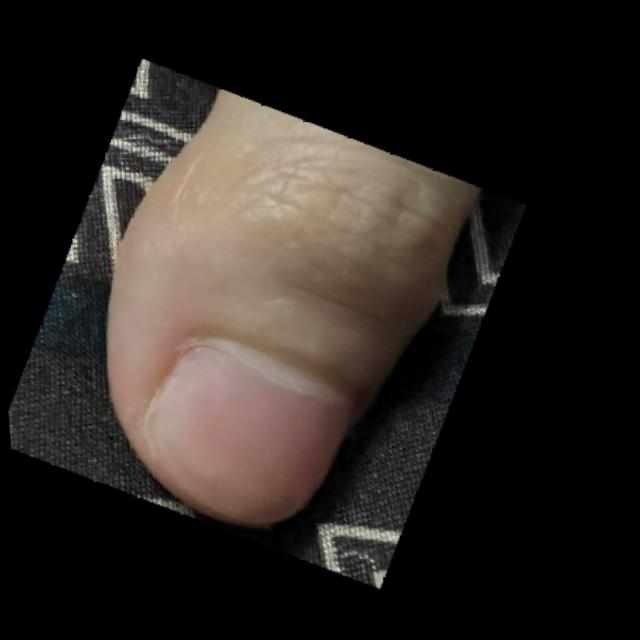Nail: (148, 341, 350, 523)
